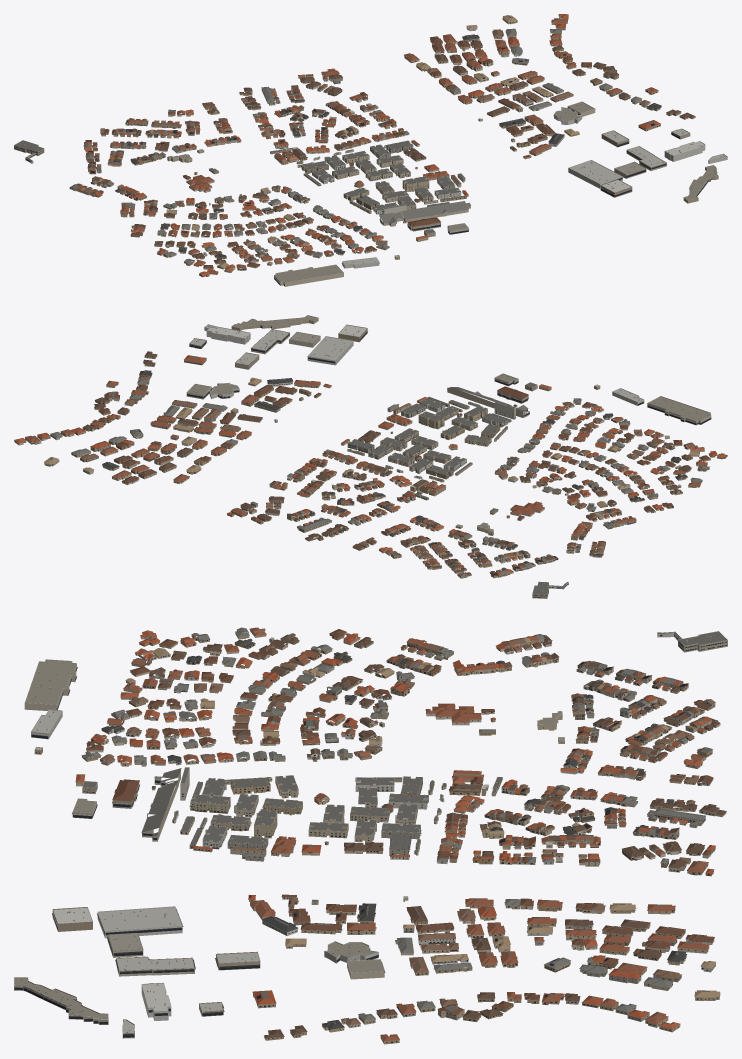
The picture shows the model from 3 angles, top to bottom: view 1: azimuth 30°, elevation 25°; view 2: azimuth 150°, elevation 25°; view 3: azimuth 270°, elevation 25°; orthographic projection. The views are drawn at different scales.
Parts seen in each view (by area): view 1: buildings_r2_c7_lod0; view 2: buildings_r2_c7_lod0; view 3: buildings_r2_c7_lod0.
Part boxes in pixels (x1=…): buildings_r2_c7_lod0: x1=14, y1=14, x2=727, y2=286; buildings_r2_c7_lod0: x1=14, y1=315, x2=727, y2=598; buildings_r2_c7_lod0: x1=14, y1=627, x2=727, y2=1044.
Size of the model in its own units: 1146 by 39.65 by 828.
